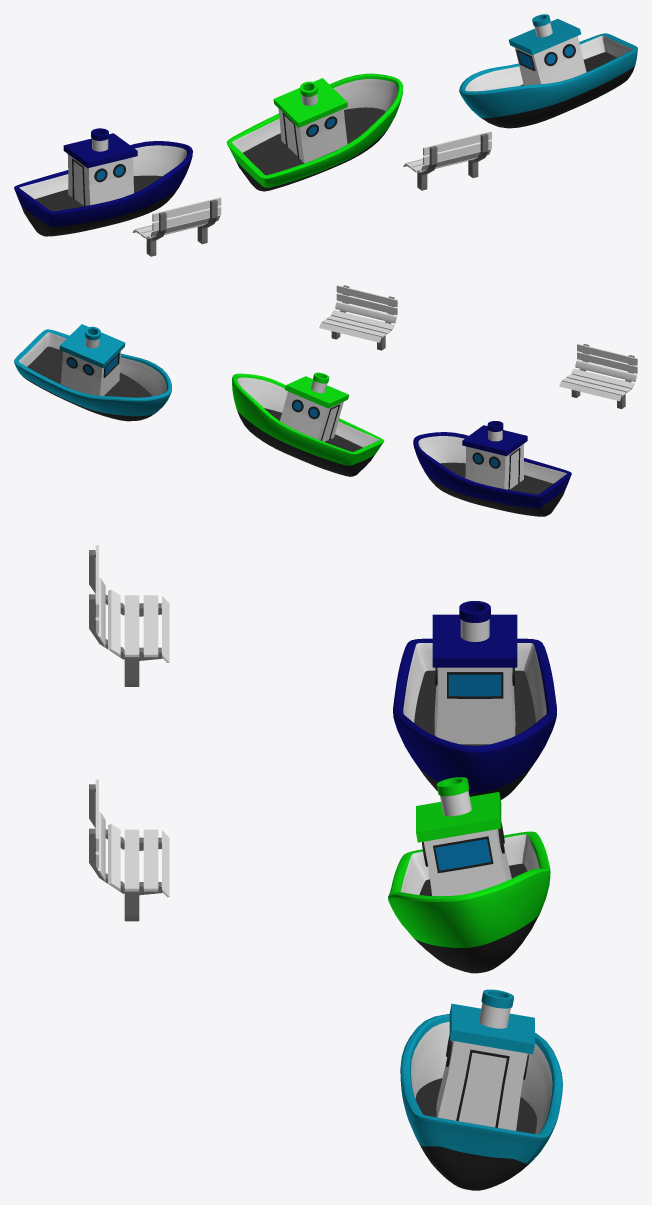
File: assetsbeach.fbx
3 views of the same model, one above another, from view 1: azimuth 30°, elevation 25°; view 2: azimuth 150°, elevation 25°; view 3: azimuth 270°, elevation 25° (orthographic). The views are drawn at different scales.
Visible parts, largest first — view 1: Yellow Boat, Red Boat, Green Boat, Banco.002, Banco.001; view 2: Green Boat, Yellow Boat, Red Boat, Banco.001, Banco.002; view 3: Green Boat, Red Boat, Yellow Boat, Banco.001, Banco.002.
Boxes of the visible parts, <box> form: Yellow Boat: <box>226,73,403,191</box>; Red Boat: <box>14,128,192,236</box>; Green Boat: <box>459,14,637,128</box>; Banco.002: <box>132,197,221,256</box>; Banco.001: <box>403,131,491,190</box>; Green Boat: <box>14,324,171,421</box>; Yellow Boat: <box>232,372,384,476</box>; Red Boat: <box>413,421,571,516</box>; Banco.001: <box>319,285,397,350</box>; Banco.002: <box>559,344,637,408</box>; Green Boat: <box>400,989,562,1190</box>; Red Boat: <box>393,601,556,799</box>; Yellow Boat: <box>388,777,550,973</box>; Banco.001: <box>89,779,169,921</box>; Banco.002: <box>89,545,169,686</box>.
Size of the model in its own units: 35.63 by 6.03 by 13.85.
